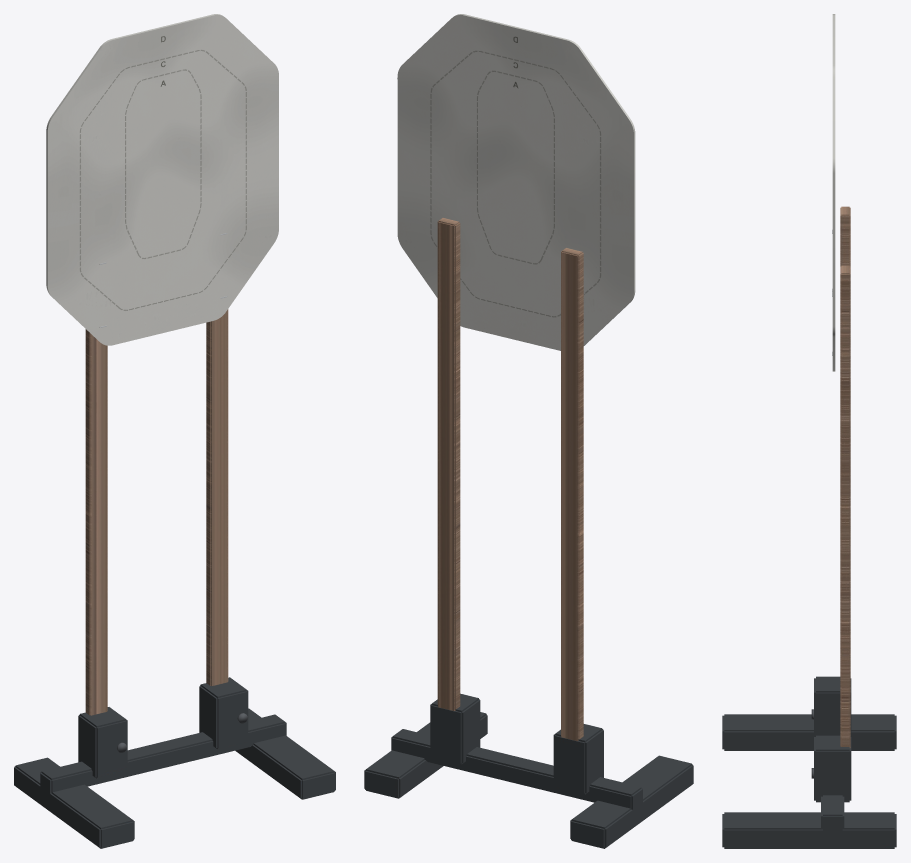
File: obj_no_shoot.glb
3 views of the same model, side by side, from view 1: azimuth 30°, elevation 25°; view 2: azimuth 150°, elevation 25°; view 3: azimuth 270°, elevation 25° (orthographic). The views are drawn at different scales.
Parts seen in each view (by area): view 1: card, no_shoot_body; view 2: card, no_shoot_body; view 3: no_shoot_body, card.
Boxes of the visible parts, bbox=[...] form: card: bbox=[46, 14, 278, 345]; no_shoot_body: bbox=[14, 309, 335, 848]; card: bbox=[397, 14, 635, 350]; no_shoot_body: bbox=[364, 218, 693, 848]; no_shoot_body: bbox=[722, 206, 896, 848]; card: bbox=[832, 14, 835, 371].
Bounding box in the file's own units: 0.47 × 1.43 × 0.3.
5 materials, 2 textured.
